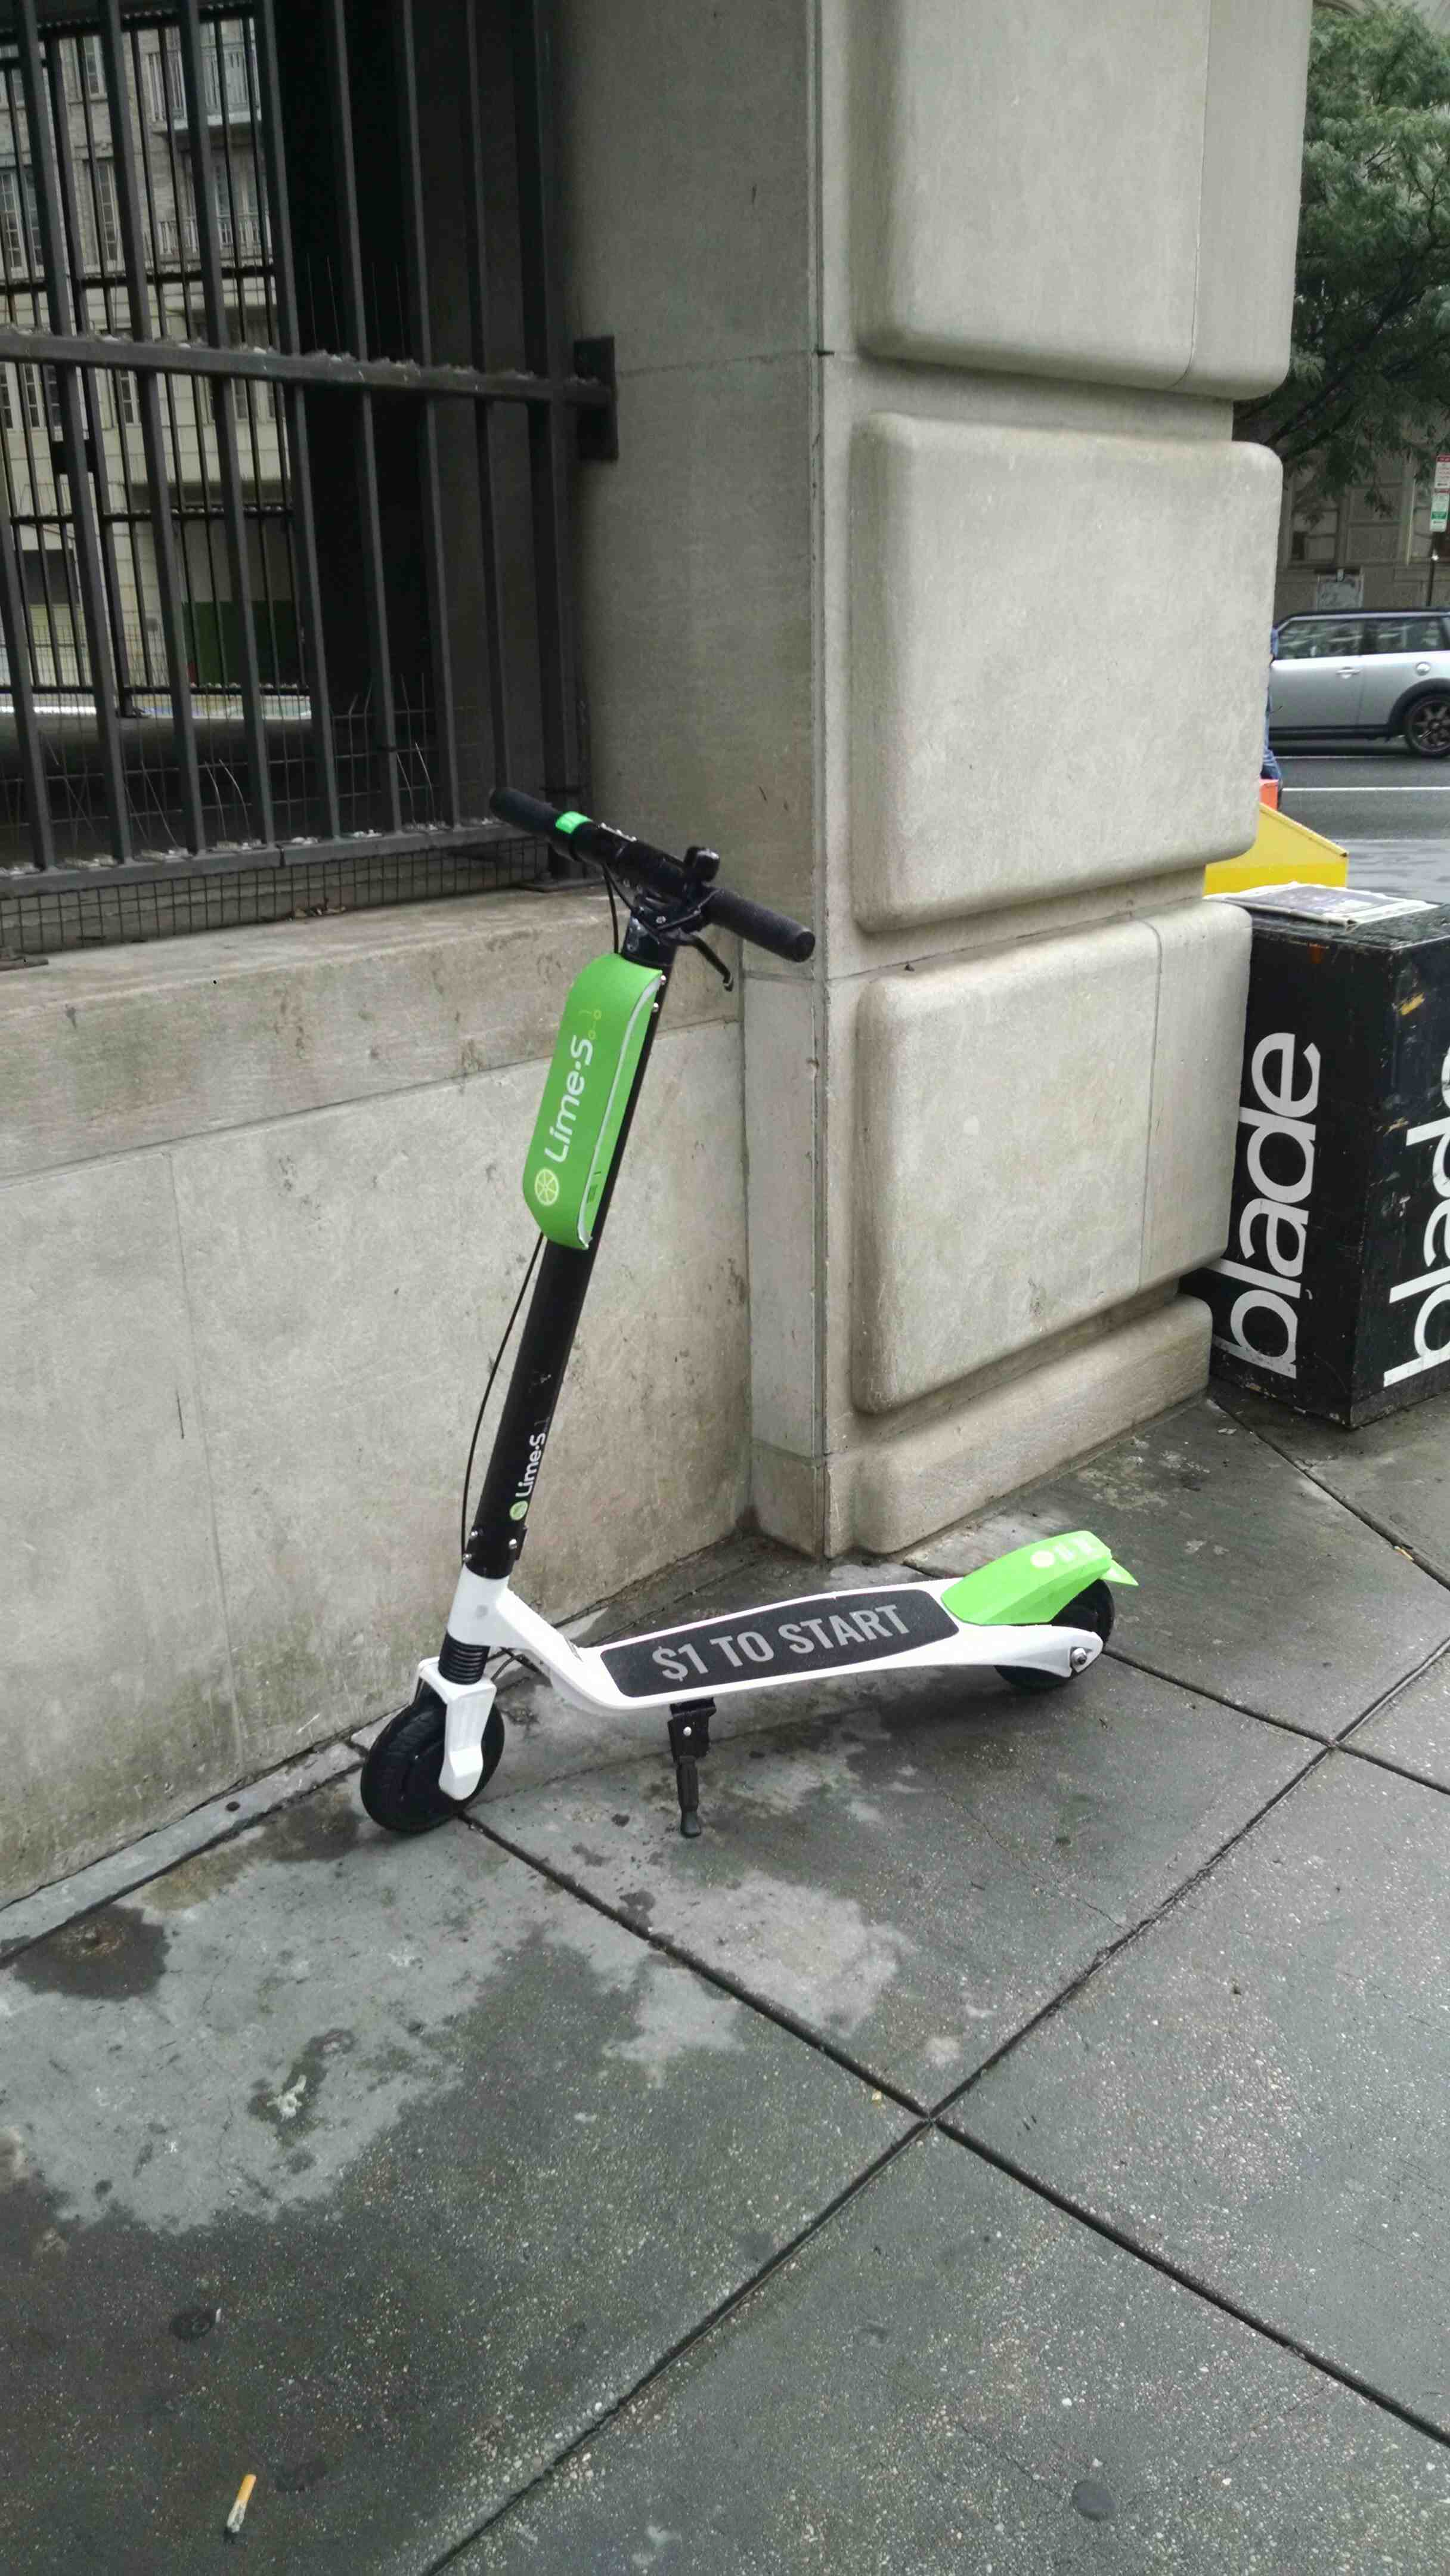scooter: (362, 763, 1169, 1840)
